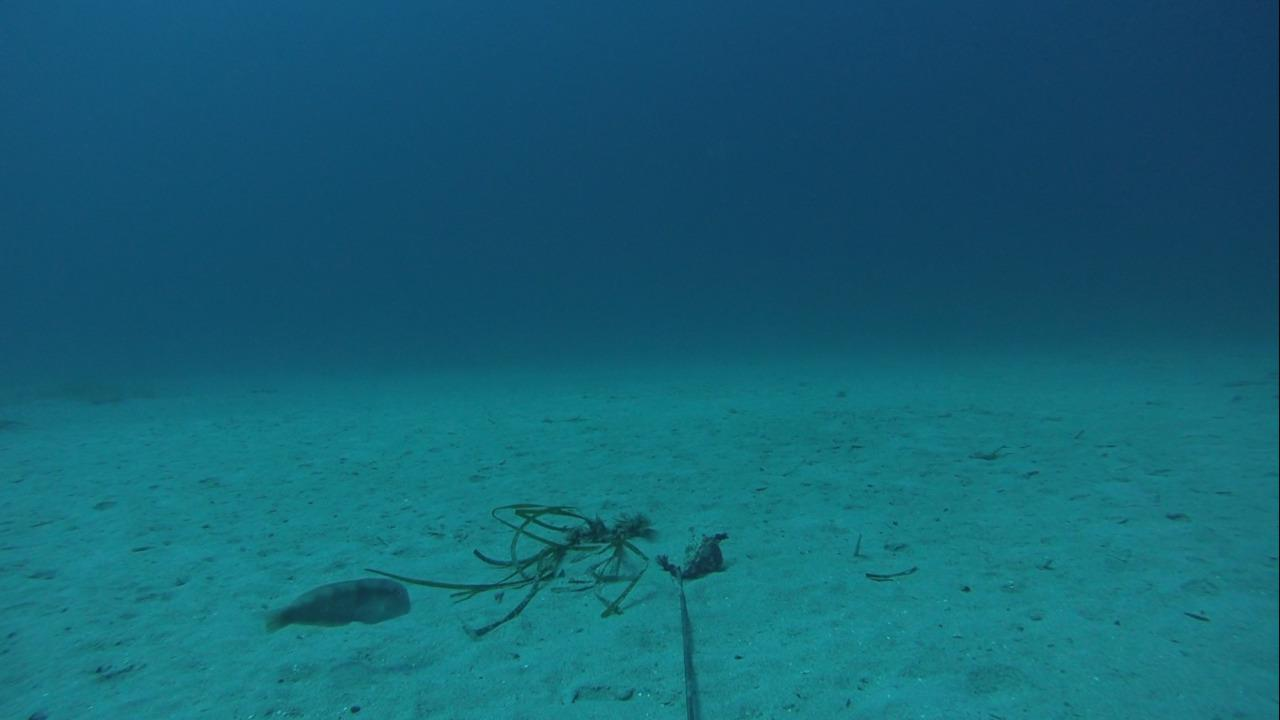raor: (258, 575, 416, 633)
